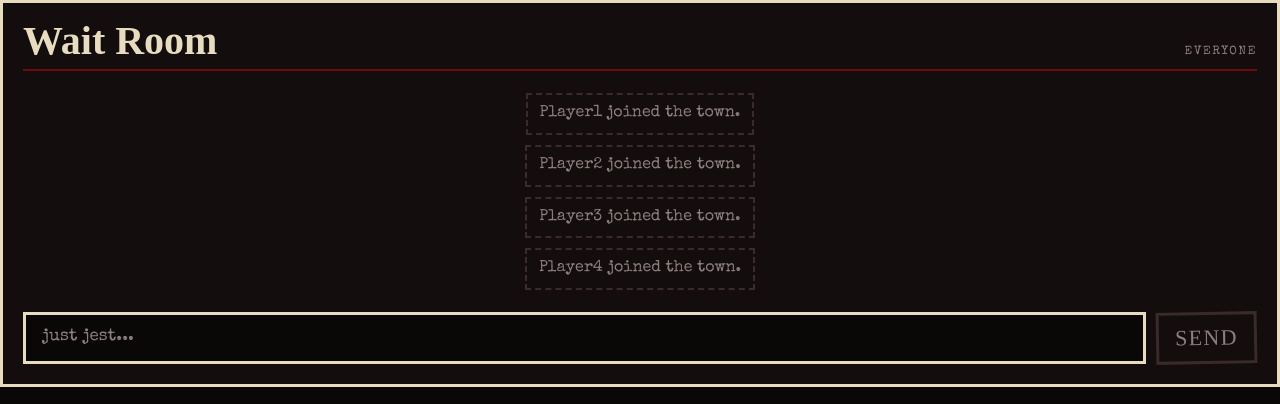
Test: ChatDock: wait room › sends a trimmed message and clears the box afterwards
Type "  hello town  " into the field named "Message". click: coordinates (585, 338)
box: [23, 312, 1146, 364]
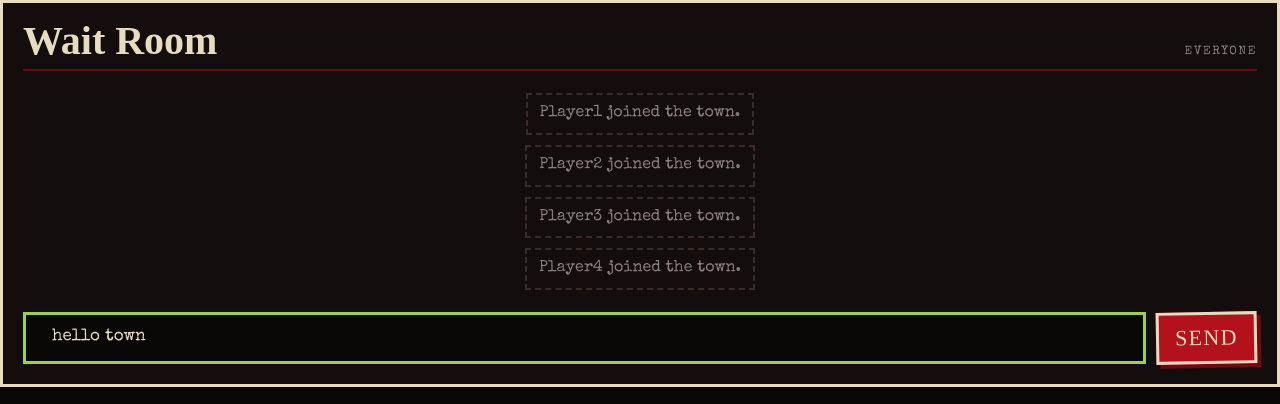
Click the button "SEND". click: coordinates (1207, 338)
box: [1156, 311, 1257, 365]
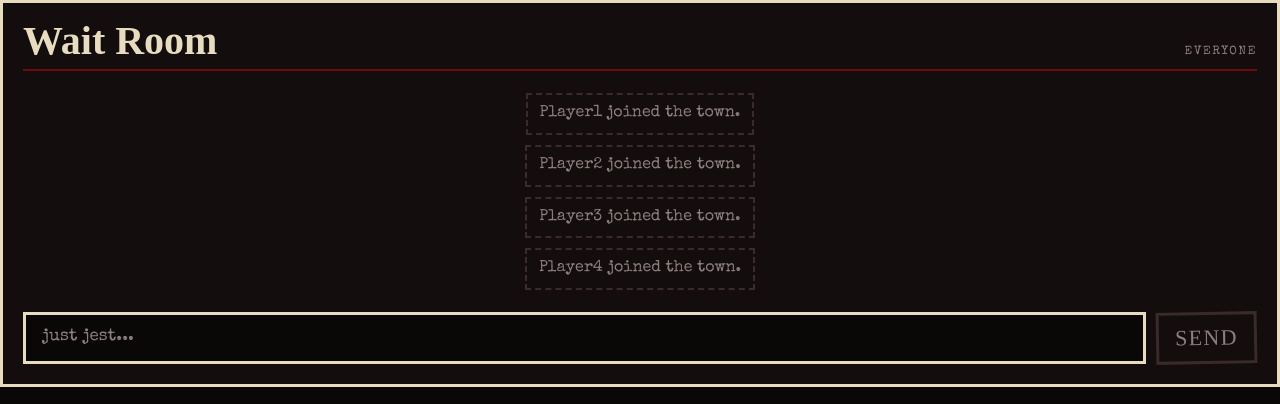
Now the field named "Message" is empty, box [23, 312, 1146, 364]
